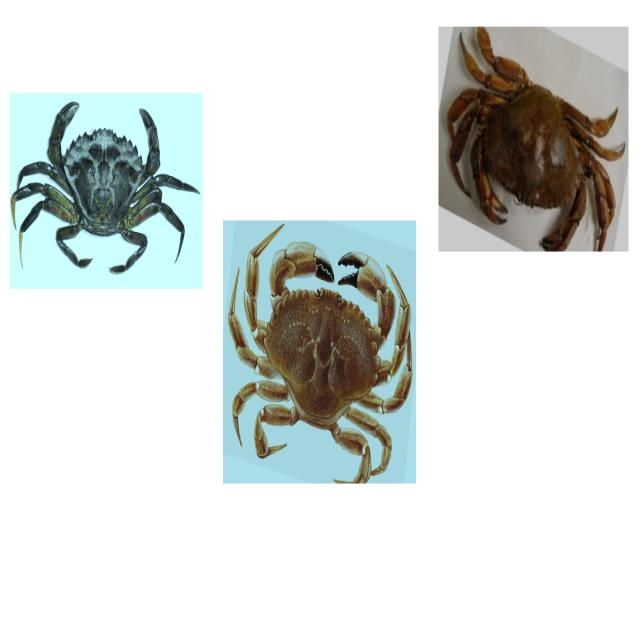egc: (10, 94, 201, 289)
jonah_crab: (225, 222, 418, 485)
rock_crab: (440, 28, 630, 255)
